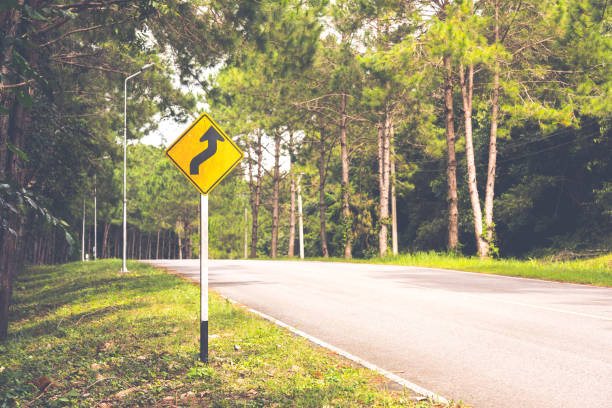right turn: (166, 115, 243, 193)
